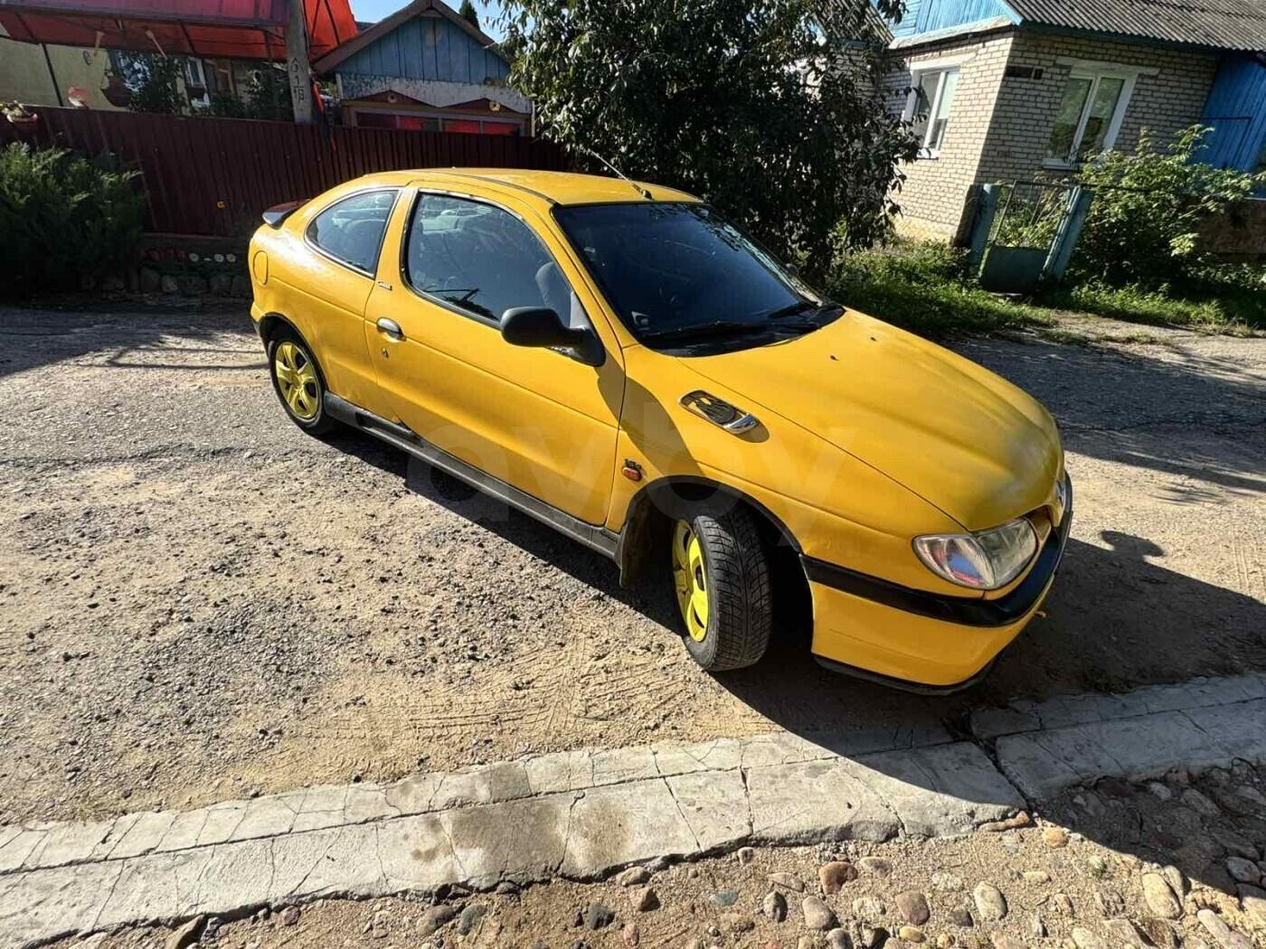Megane_1995-1999: (239, 152, 1094, 727)
